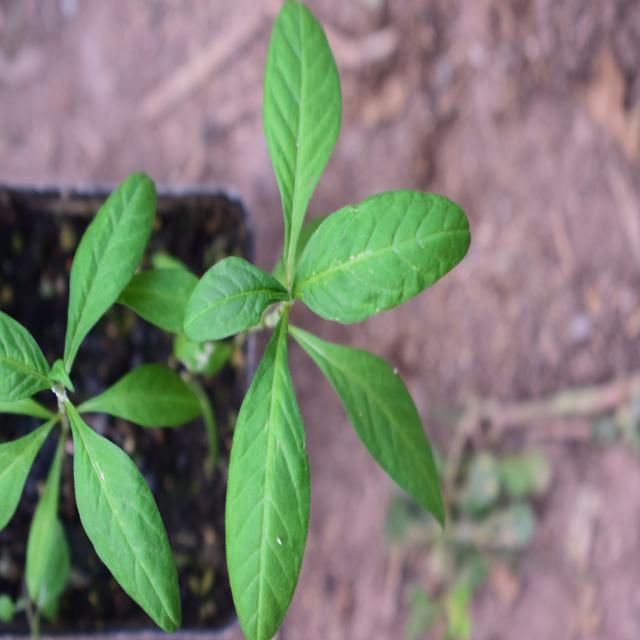white_smart_weed: (179, 3, 454, 625)
